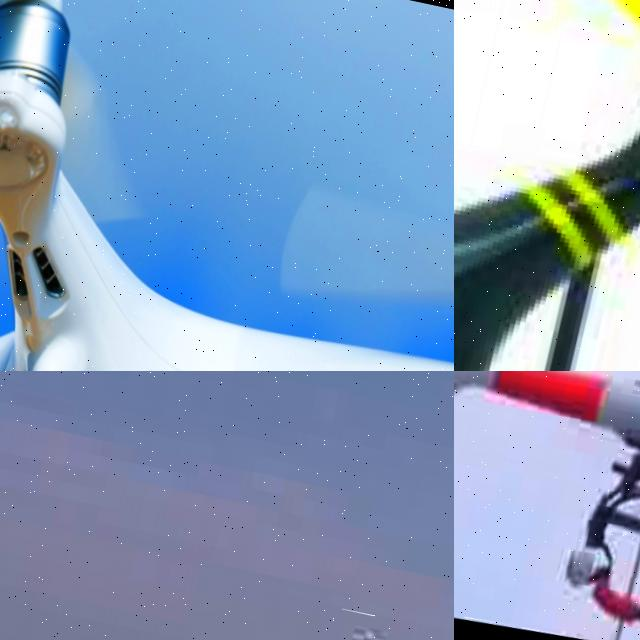0: (454, 371, 640, 640), (330, 609, 406, 640)
drone: (0, 0, 454, 371), (454, 0, 640, 371)
